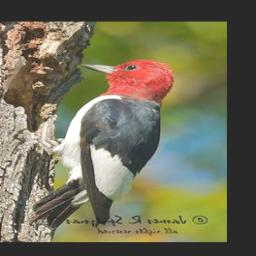Woodpecker: (24, 57, 174, 230)
